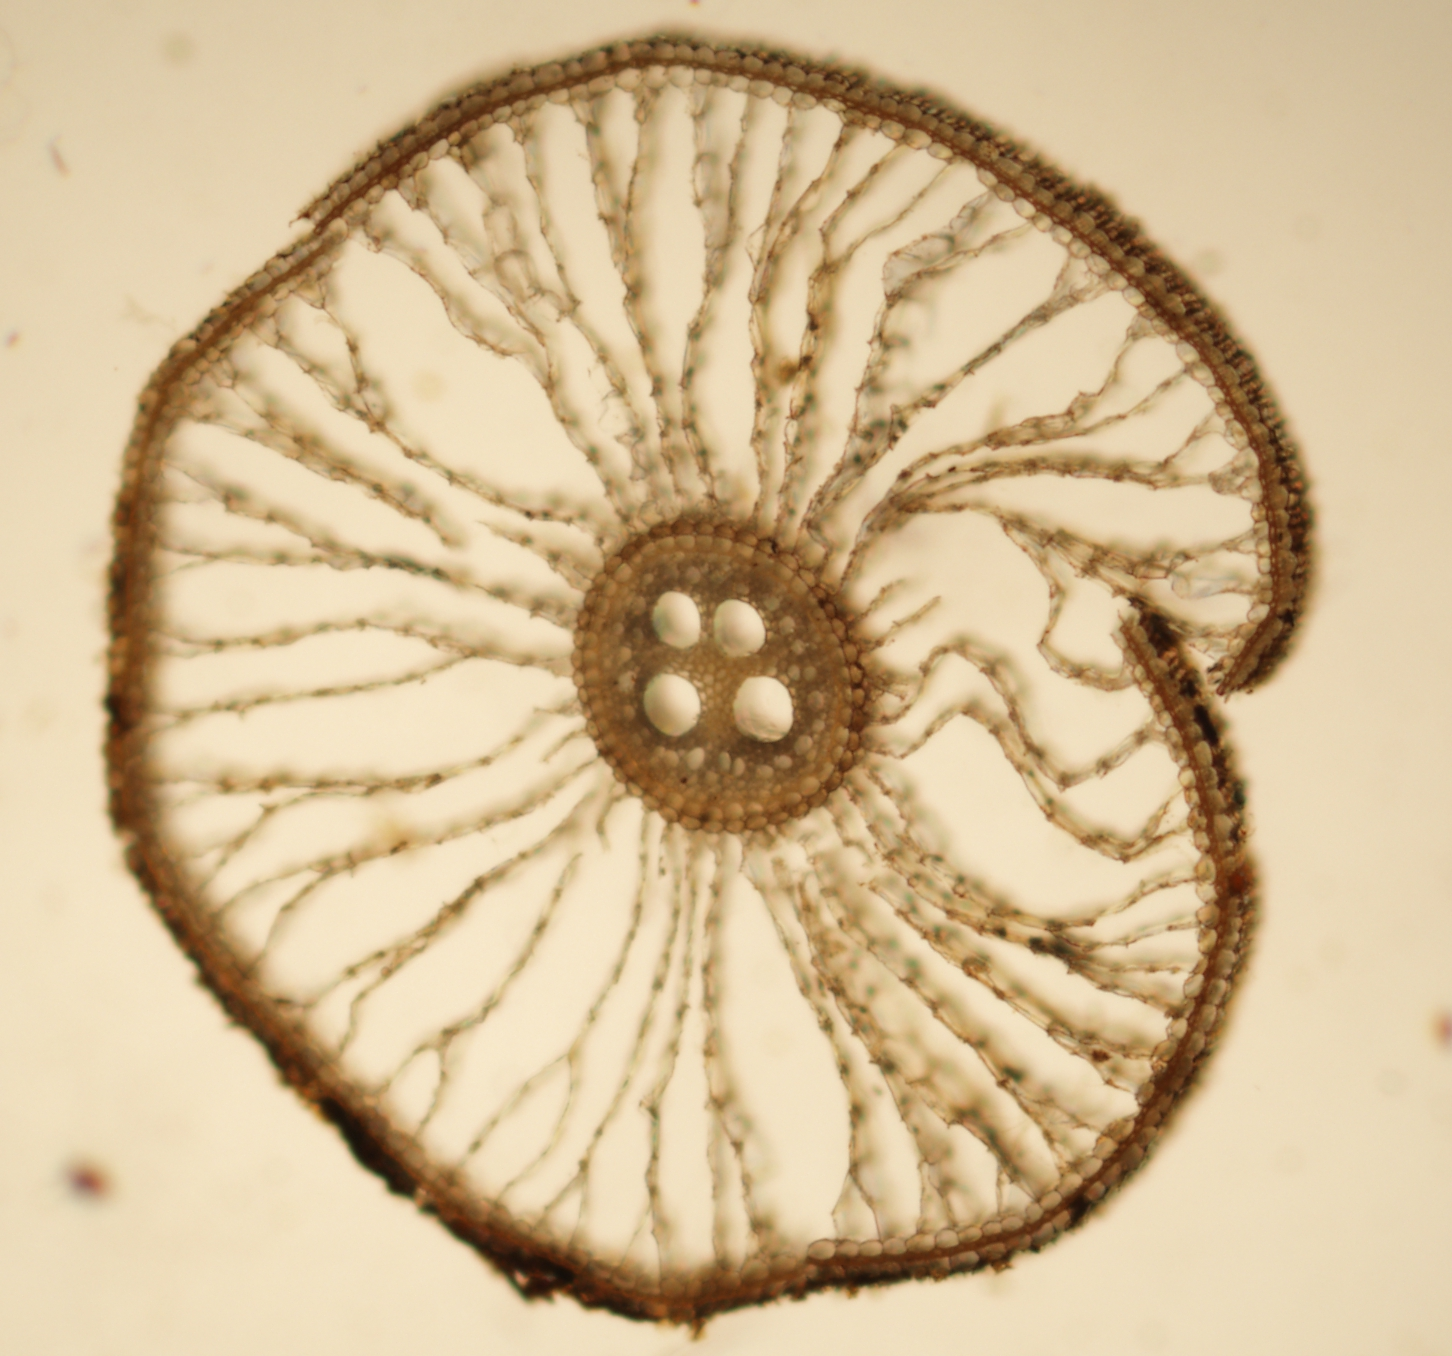lm: (733, 675, 793, 742), (643, 672, 701, 737), (713, 598, 766, 656), (651, 590, 700, 647)
